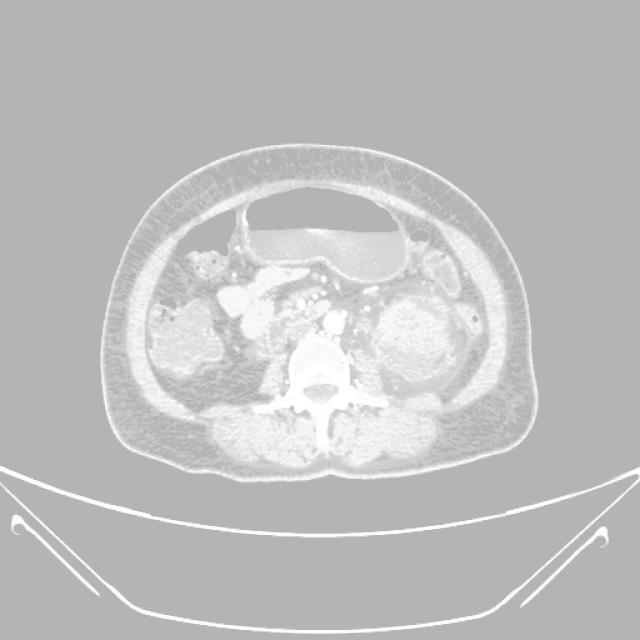TUMOR: (114, 193, 492, 420)
